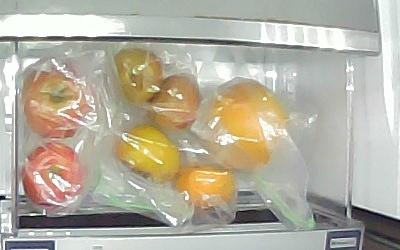apple_vinyl: (21, 63, 88, 139), (23, 141, 88, 207)
grapefruit_vinyl: (207, 78, 287, 172)
persimmon_vinyl: (113, 125, 181, 187), (174, 164, 237, 205)
prune_vinyl: (113, 48, 164, 106), (150, 74, 201, 130)
